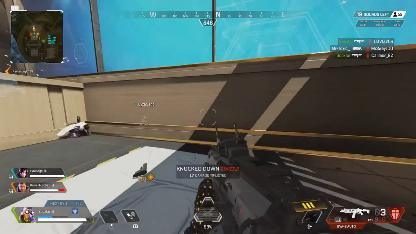Target: (65, 119, 91, 137)
